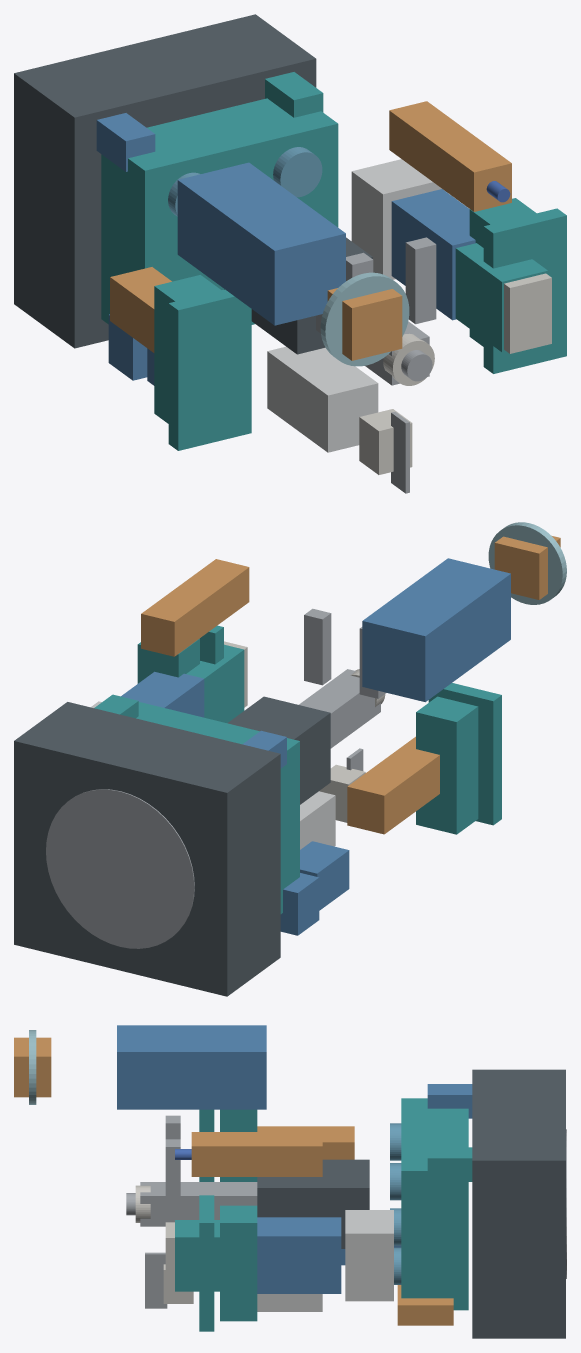
The model's file is dranmar_tumor_resection_tool_bag_close.glb.
The picture shows the model from 3 angles, top to bottom: view 1: azimuth 30°, elevation 25°; view 2: azimuth 150°, elevation 25°; view 3: azimuth 270°, elevation 25°; orthographic projection. The views are drawn at different scales.
Visible parts, largest first — view 1: Mount_MountBody, SensorTurret_SensorTurretBody, BagDeployer_BagDeployerBody, LeftTraction_LeftPad, ScissorCarriage_ScissorCarriageBody, MarginMarker_MarginMarkerBody, RightTraction_RightPad, UltrasoundPitch_UltrasoundPitchBody, UltrasoundCarriage_UltrasoundCarriageBody, UltrasoundCompliance_UltrasoundComplianceBody, BagClosure_BagClosureBody, UltrasoundCompliance_UltrasoundFace (+15 smaller); view 2: Mount_MountBody, Mount_MountRing, BagDeployer_BagDeployerBody, LeftTraction_LeftTractionBody, MarginMarker_MarginMarkerBody, RamanProbe_RamanProbeBody, SensorTurret_SensorTurretBody, AspiratorCarriage_AspiratorCarriageBody, LeftTraction_LeftPad, AspiratorRotor_AspiratorRotorBody, UltrasoundCompliance_UltrasoundComplianceBody, BagClosure_BagClosureBody (+11 smaller); view 3: Mount_MountBody, BagDeployer_BagDeployerBody, SensorTurret_SensorTurretBody, UltrasoundPitch_UltrasoundPitchBody, MarginMarker_MarginMarkerBody, AspiratorCarriage_AspiratorCarriageBody, UltrasoundCarriage_UltrasoundCarriageBody, RightTraction_RightTractionBody, AspiratorRotor_AspiratorRotorBody, UltrasoundCompliance_UltrasoundComplianceBody, RightTraction_RightPad, BagClosure_BagClosureBody (+16 smaller).
Boxes of the visible parts, x1=… form: Mount_MountBody: x1=14, y1=14, x2=316, y2=348; SensorTurret_SensorTurretBody: x1=101, y1=98, x2=338, y2=324; BagDeployer_BagDeployerBody: x1=177, y1=162, x2=345, y2=325; LeftTraction_LeftPad: x1=168, y1=289, x2=251, y2=450; ScissorCarriage_ScissorCarriageBody: x1=267, y1=346, x2=378, y2=452; MarginMarker_MarginMarkerBody: x1=389, y1=101, x2=511, y2=211; RightTraction_RightPad: x1=483, y1=208, x2=566, y2=373; UltrasoundPitch_UltrasoundPitchBody: x1=391, y1=189, x2=475, y2=320; UltrasoundCarriage_UltrasoundCarriageBody: x1=351, y1=159, x2=445, y2=279; UltrasoundCompliance_UltrasoundComplianceBody: x1=455, y1=243, x2=547, y2=352; BagClosure_BagClosureBody: x1=327, y1=288, x2=402, y2=360; UltrasoundCompliance_UltrasoundFace: x1=504, y1=273, x2=551, y2=353; Mount_MountBody: x1=14, y1=702, x2=280, y2=996; Mount_MountRing: x1=46, y1=789, x2=194, y2=948; BagDeployer_BagDeployerBody: x1=362, y1=558, x2=510, y2=702; LeftTraction_LeftTractionBody: x1=416, y1=696, x2=478, y2=834; MarginMarker_MarginMarkerBody: x1=141, y1=559, x2=249, y2=656; RamanProbe_RamanProbeBody: x1=347, y1=736, x2=439, y2=834; SensorTurret_SensorTurretBody: x1=136, y1=702, x2=299, y2=913; AspiratorCarriage_AspiratorCarriageBody: x1=227, y1=696, x2=330, y2=804; LeftTraction_LeftPad: x1=428, y1=683, x2=501, y2=825; AspiratorRotor_AspiratorRotorBody: x1=299, y1=669, x2=380, y2=748; UltrasoundCompliance_UltrasoundComplianceBody: x1=186, y1=644, x2=244, y2=722; BagClosure_BagClosureBody: x1=494, y1=535, x2=560, y2=599; Mount_MountBody: x1=472, y1=1069, x2=565, y2=1338; BagDeployer_BagDeployerBody: x1=117, y1=1025, x2=266, y2=1109; SensorTurret_SensorTurretBody: x1=401, y1=1098, x2=468, y2=1310; UltrasoundPitch_UltrasoundPitchBody: x1=257, y1=1217, x2=341, y2=1293; MarginMarker_MarginMarkerBody: x1=191, y1=1132, x2=322, y2=1176; AspiratorCarriage_AspiratorCarriageBody: x1=257, y1=1159, x2=369, y2=1248; UltrasoundCarriage_UltrasoundCarriageBody: x1=345, y1=1210, x2=393, y2=1301; RightTraction_RightTractionBody: x1=220, y1=1205, x2=257, y2=1321; AspiratorRotor_AspiratorRotorBody: x1=140, y1=1182, x2=257, y2=1226; UltrasoundCompliance_UltrasoundComplianceBody: x1=175, y1=1220, x2=219, y2=1291; RightTraction_RightPad: x1=199, y1=1195, x2=214, y2=1331; BagClosure_BagClosureBody: x1=14, y1=1037, x2=51, y2=1097.
Size of the model in its own units: 0.185 by 0.136 by 0.2955.
